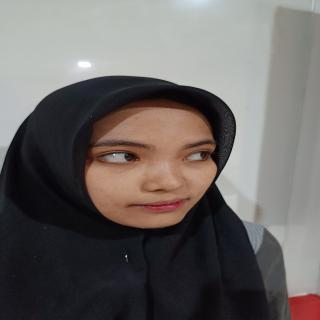Takut: (72, 89, 233, 234)
